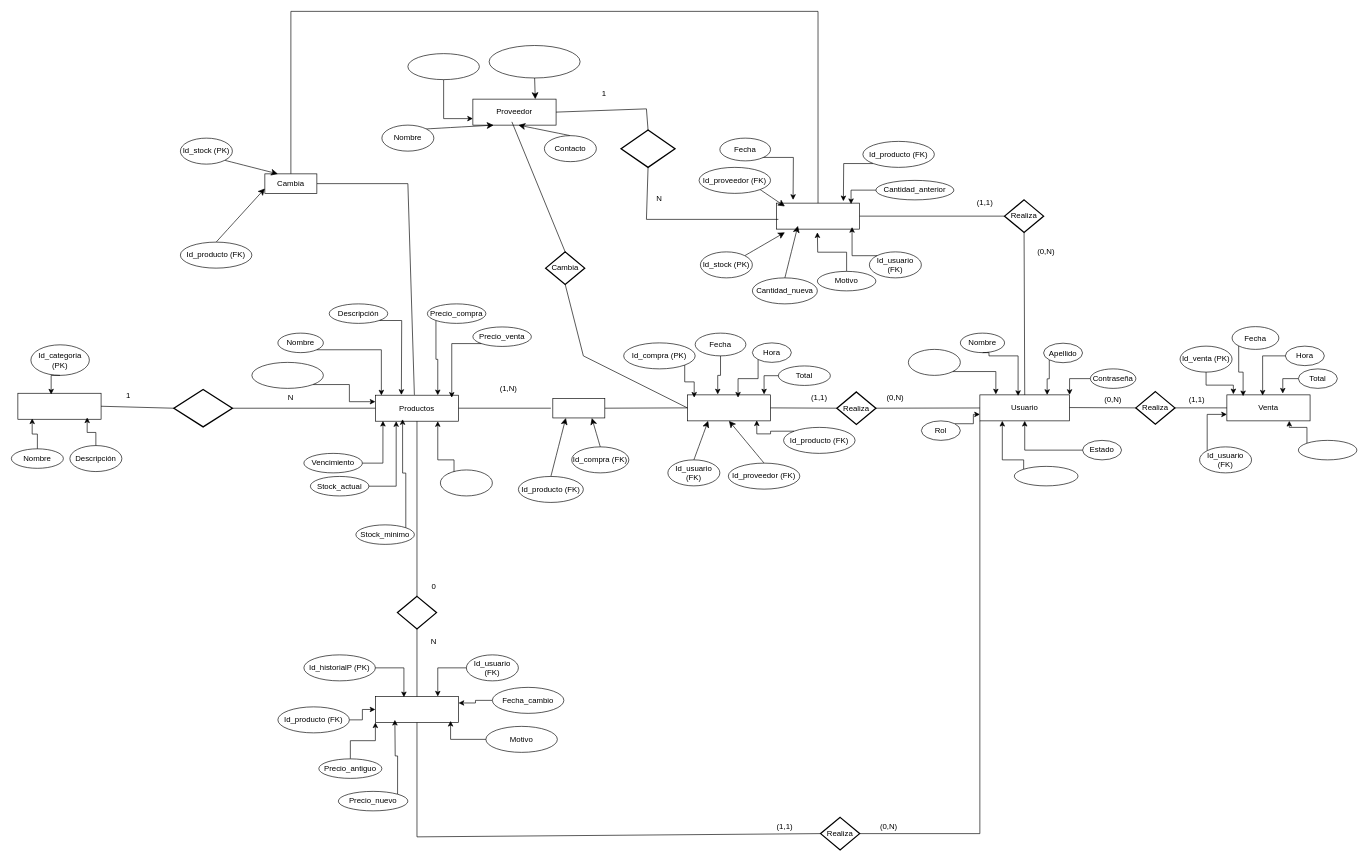
Some shapes in this 1368 by 862 pixel diagram are drawn without their labels. Here are the shapes that lost their labels. From the top down, the centre of each, then its label:
point 443,66: Id_proveedor (PK)
point 534,61: Producto_suminitrados
point 647,148: Suministra
point 818,215: Stock
point 287,375: Id_producto (PK)
point 934,362: Id_usuario (PK)
point 59,406: Categoría
point 203,408: Pertenece
point 578,408: Contiene
point 729,407: Compra
point 1327,450: Metodo_pago
point 466,482: Id_categoria (FK)
point 1046,476: Fecha_registro
point 416,612: Tiene
point 417,709: Historial_precios
